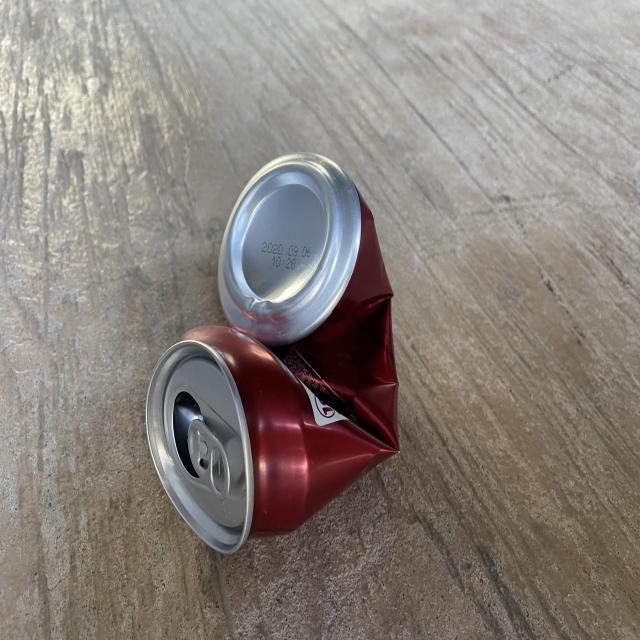can: (145, 152, 399, 554)
